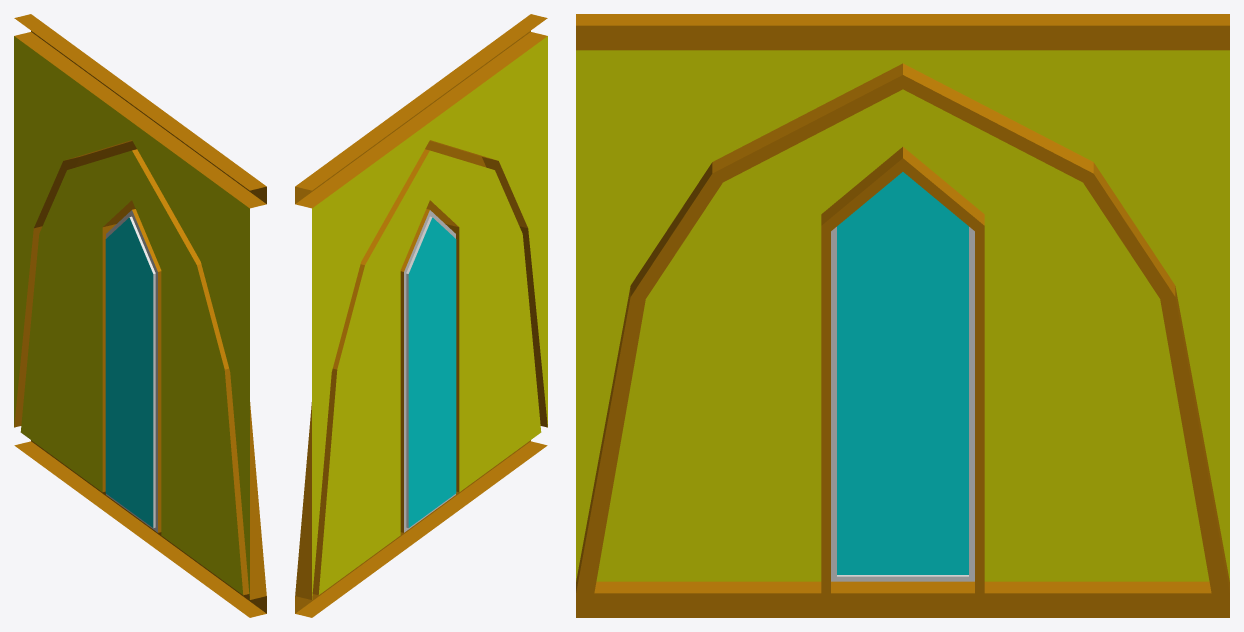
Rendered from Mesh_Wall_d01.fbx.
3 renders of one model, left to right at view 1: azimuth 30°, elevation 25°; view 2: azimuth 150°, elevation 25°; view 3: azimuth 270°, elevation 25°, orthographic. The views are drawn at different scales.
Visible parts, largest first — view 1: Mesh_Wall_d01; view 2: Mesh_Wall_d01; view 3: Mesh_Wall_d01.
Part boxes in pixels (<box>): Mesh_Wall_d01: <box>14,14,266,617</box>; Mesh_Wall_d01: <box>295,14,547,617</box>; Mesh_Wall_d01: <box>576,14,1229,617</box>.
Bounding box in the file's own units: 1.15 × 24 × 24.
